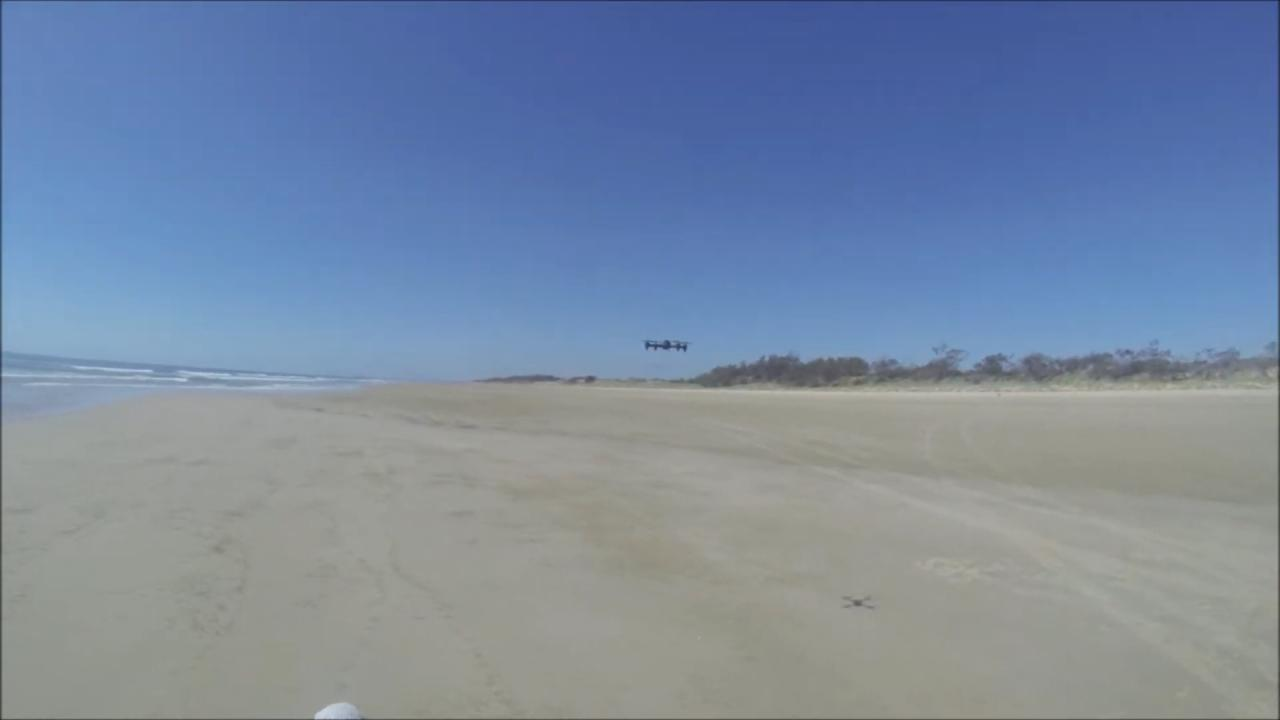Drone: (636, 330, 695, 361)
